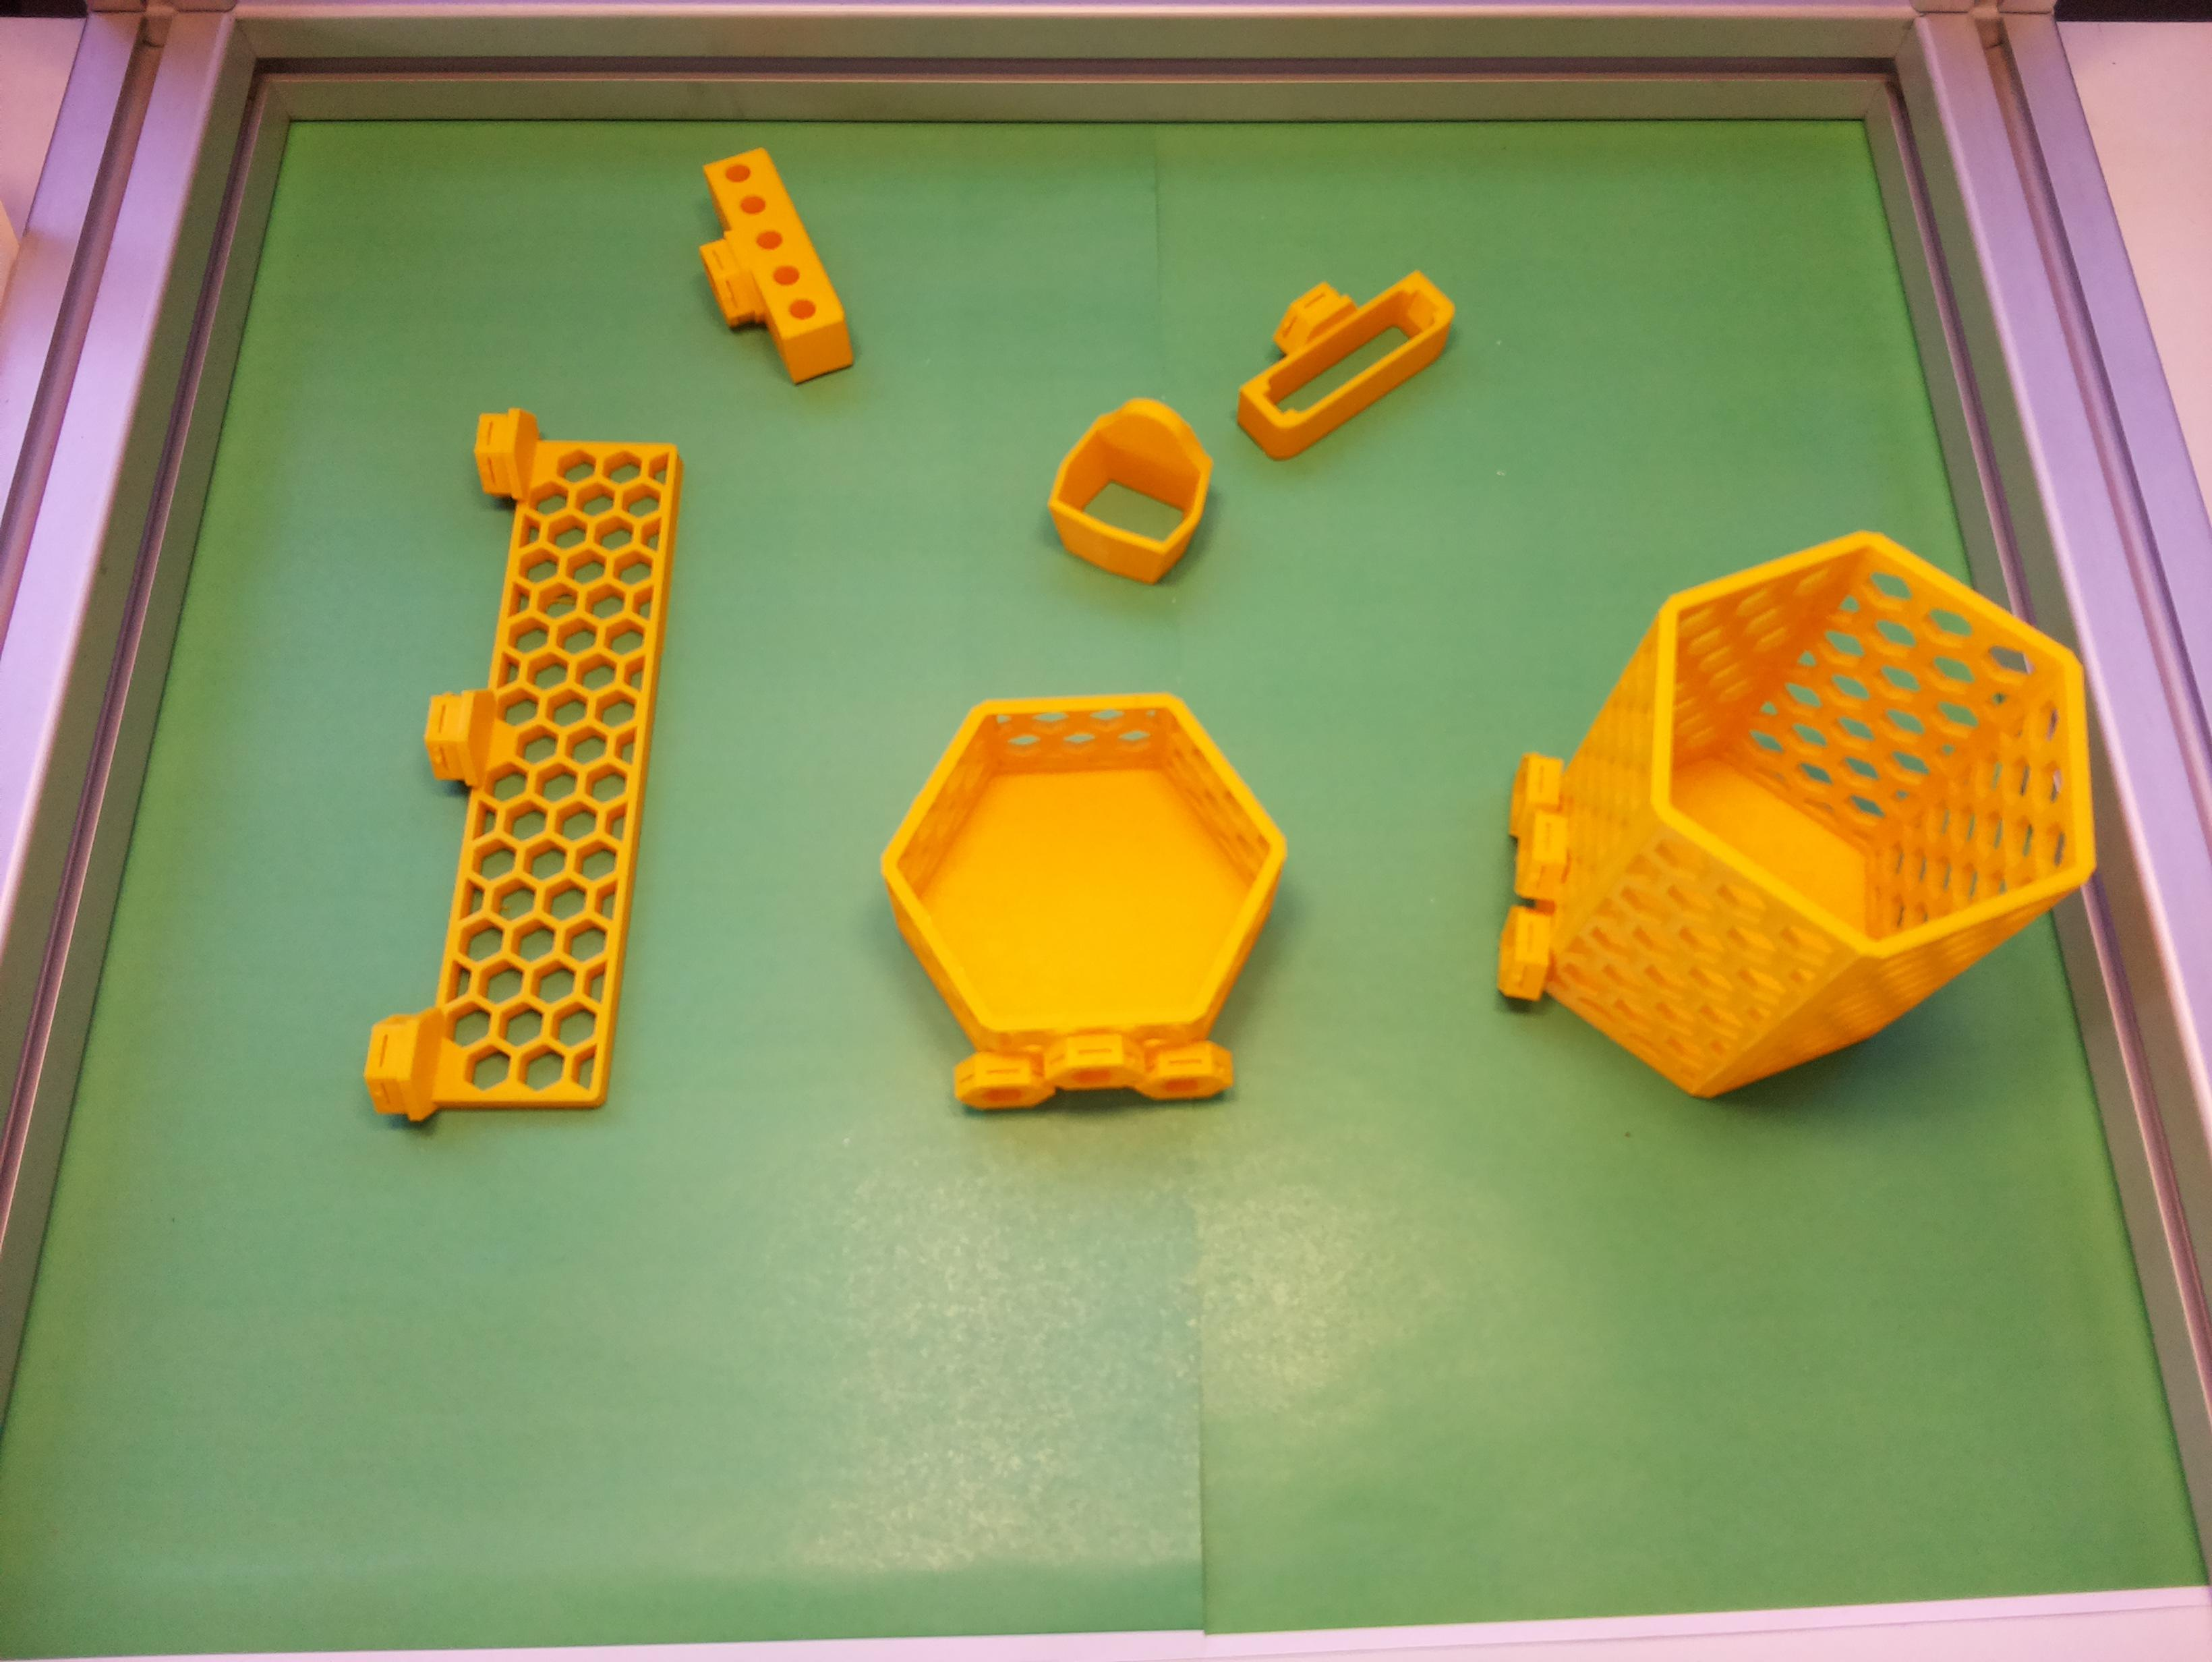bit_holder: (662, 138, 868, 405)
bottle_holder: (875, 688, 1295, 1114)
cup_holder: (1374, 429, 2184, 1194)
cutter_holder: (1199, 229, 1474, 471)
scissor_holder: (1030, 377, 1238, 597)
tool_holder: (360, 402, 688, 1145)
